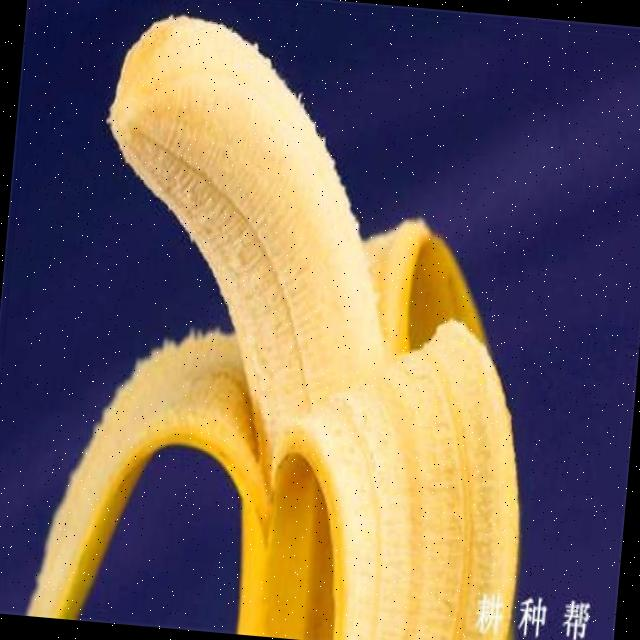banana-peel: (20, 2, 570, 640)
